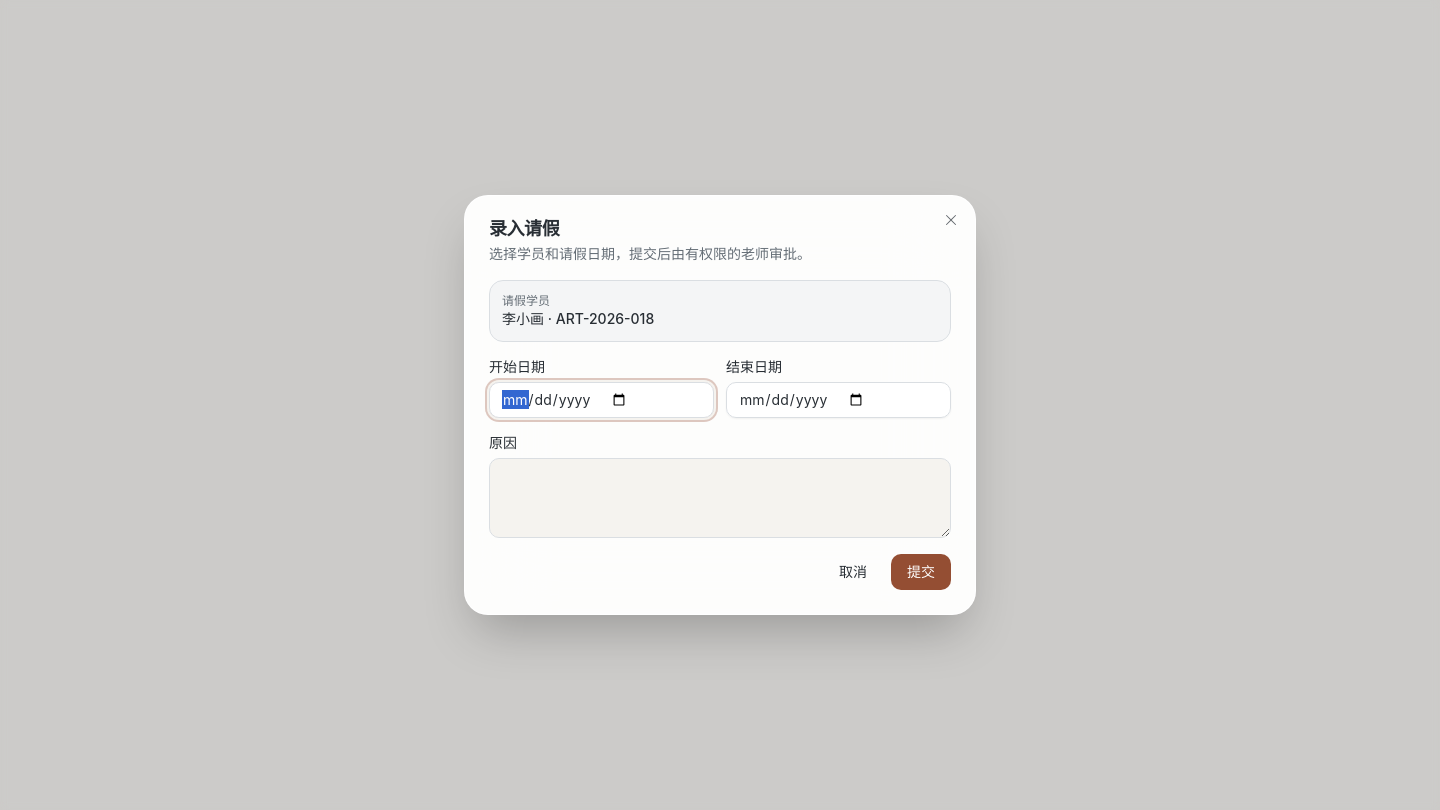
LeaveRequestFormDialog › rejects an end date before the start without sending a request
Type "2026-09-10" into the date field labelled "开始日期" at (602, 400), box [489,382,714,418]
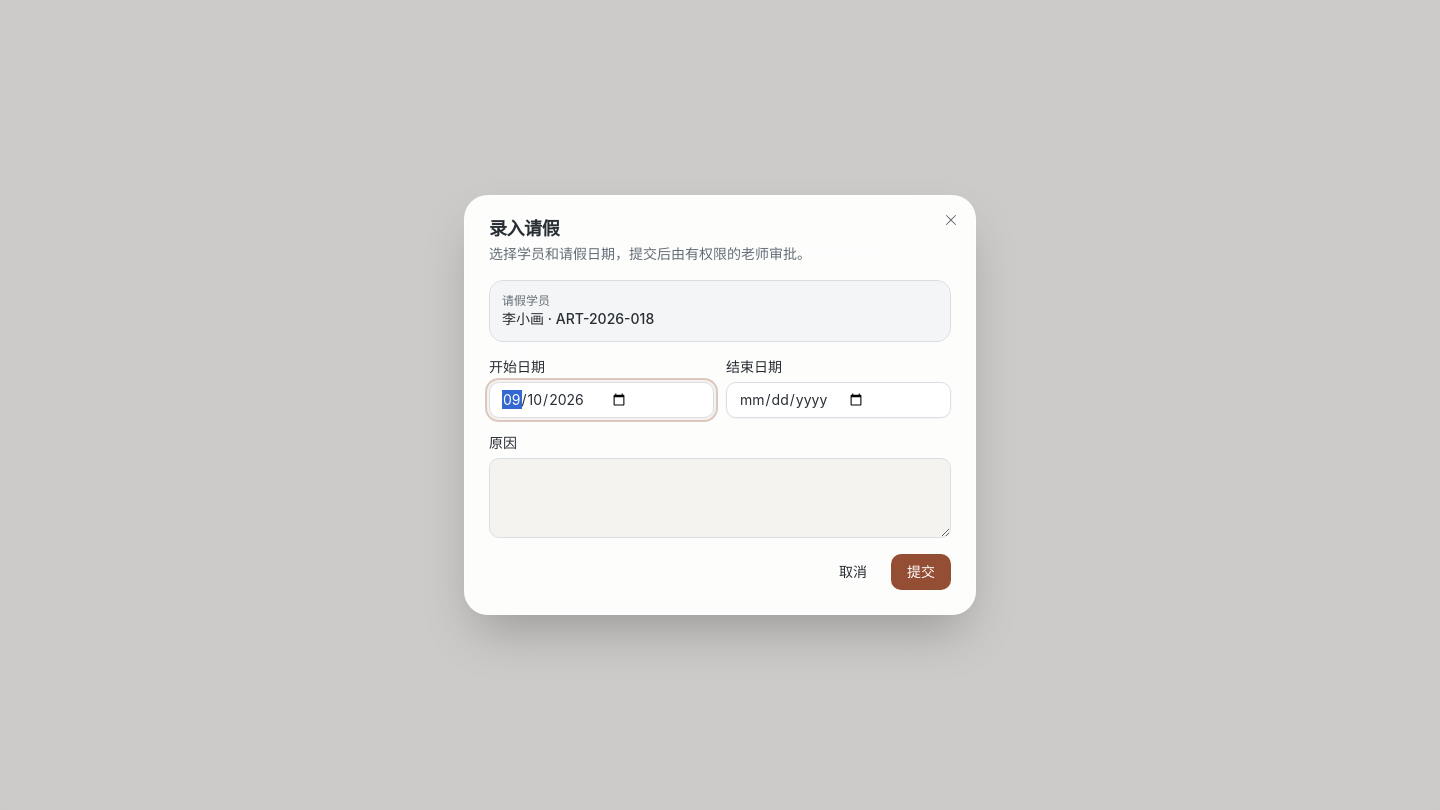
Type "2026-09-09" into the date field labelled "结束日期" at (838, 400), box [726,382,951,418]
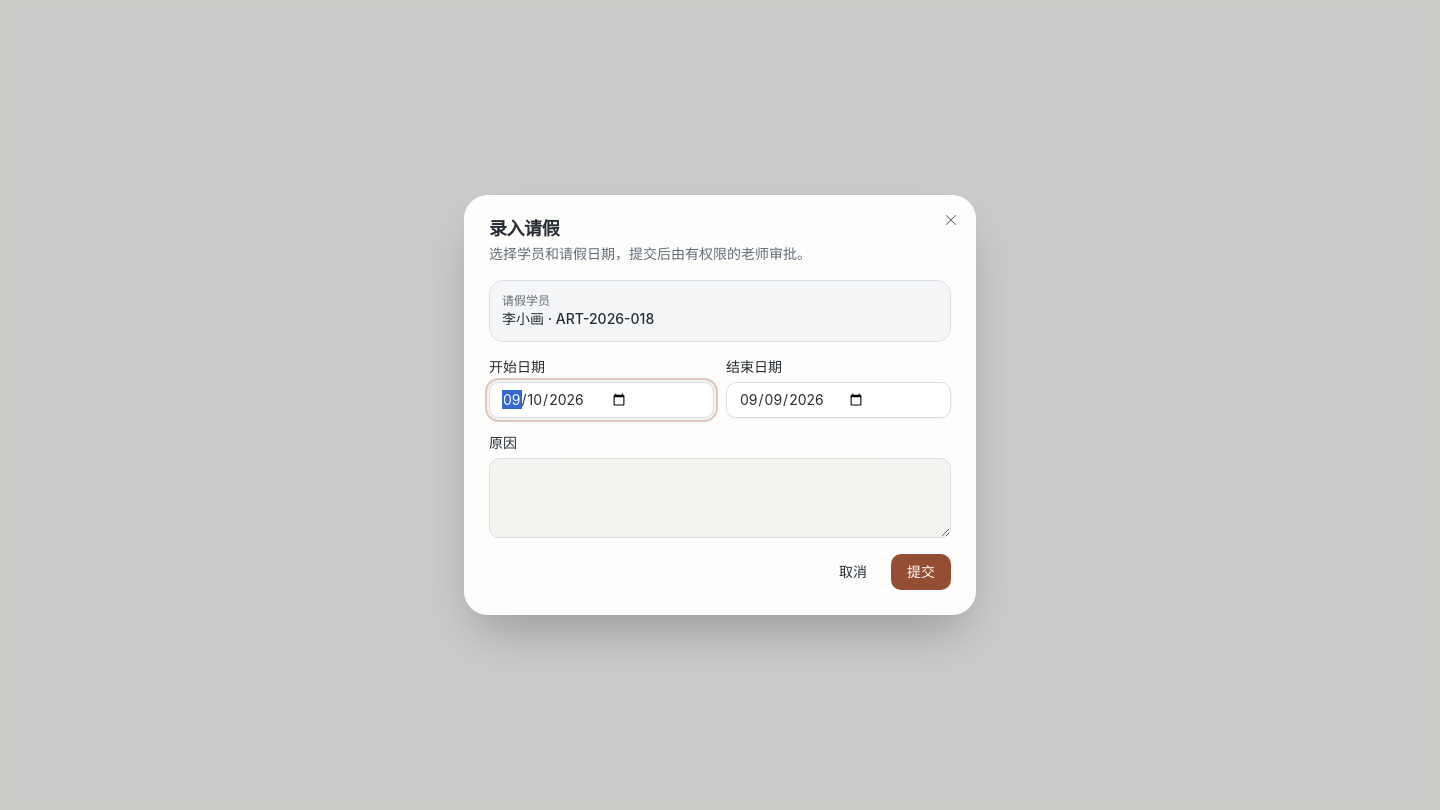
Click the button "提交" at (921, 572), box [891,554,951,590]
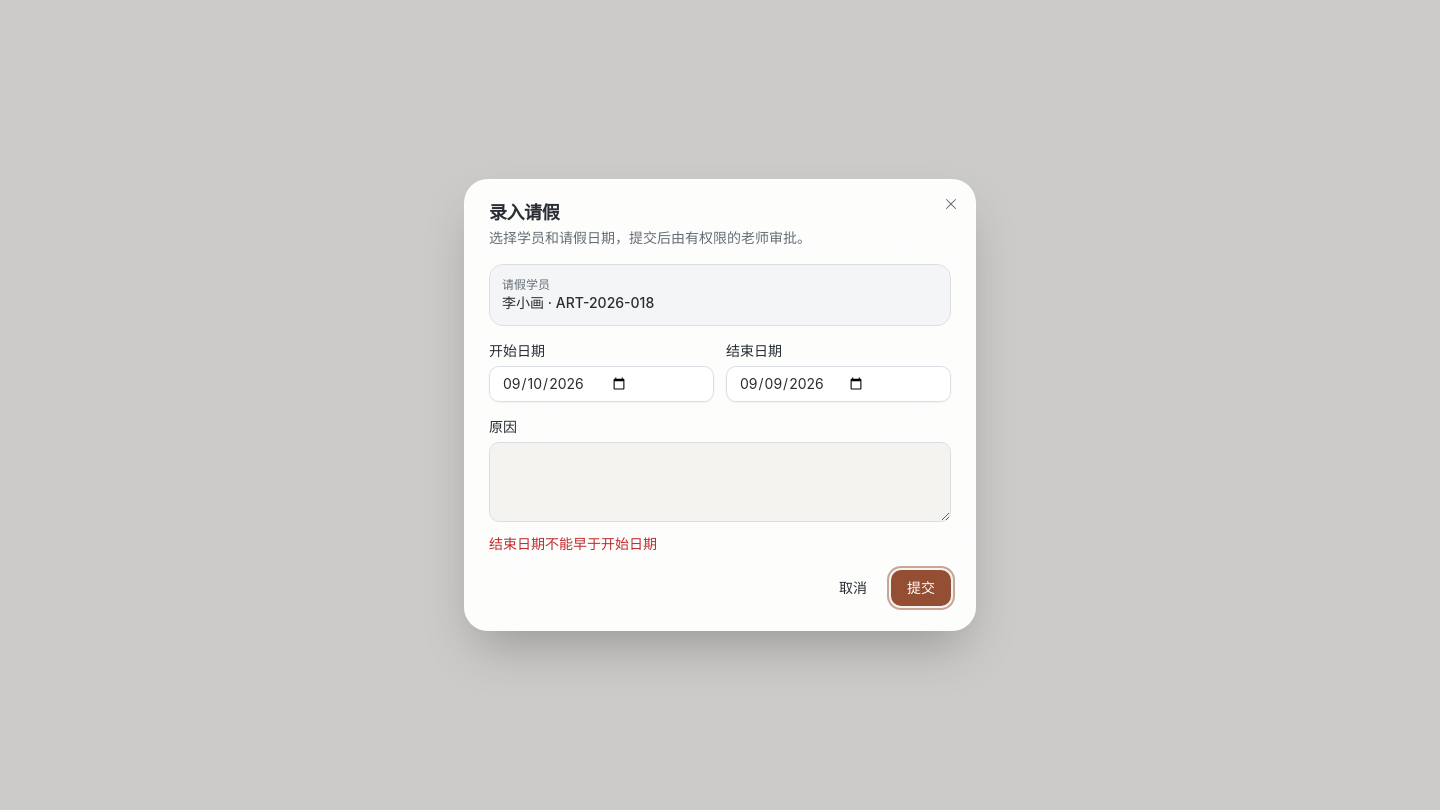
Check: the message reads "结束日期不能早于开始日期", box [489,535,657,552]
